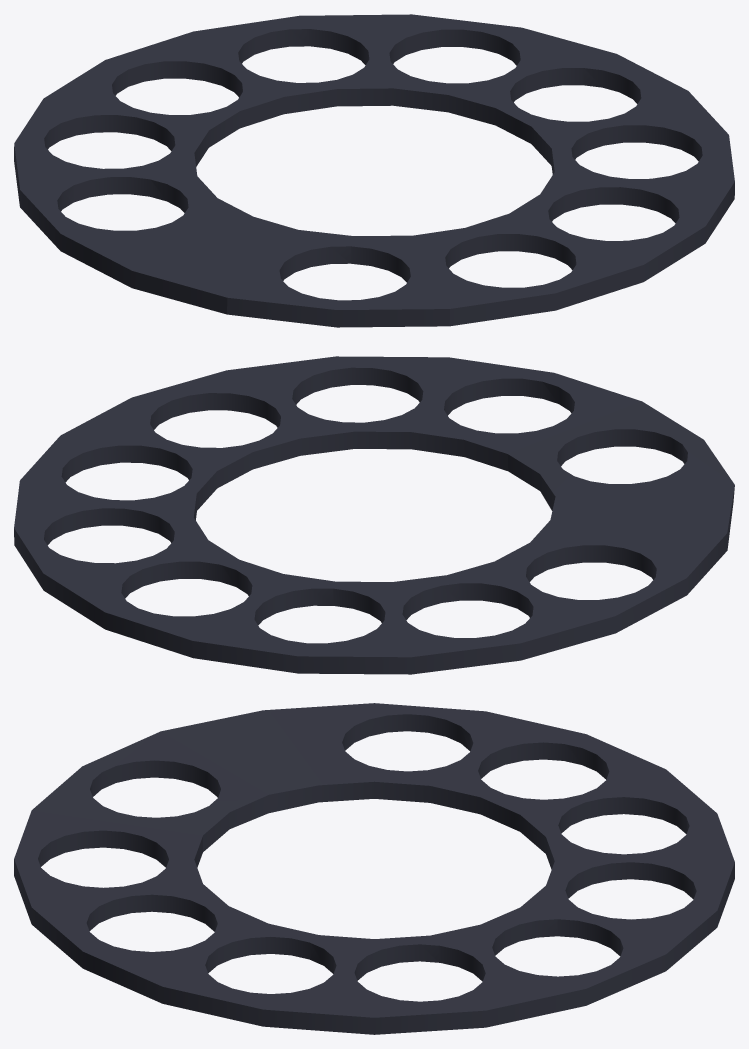
Rendered from rotaryphonedialpiece.glb.
3 views of the same model, one above another, from view 1: azimuth 30°, elevation 25°; view 2: azimuth 150°, elevation 25°; view 3: azimuth 270°, elevation 25° (orthographic).
Visible parts, largest first — view 1: dial; view 2: dial; view 3: dial.
Part boxes in pixels (bbox=[...]): dial: bbox=[14, 14, 734, 327]; dial: bbox=[14, 356, 734, 674]; dial: bbox=[14, 703, 734, 1034].
Size of the model in its own units: 0.0207 by 0.000886 by 0.0207.
1 material, 1 textured.
